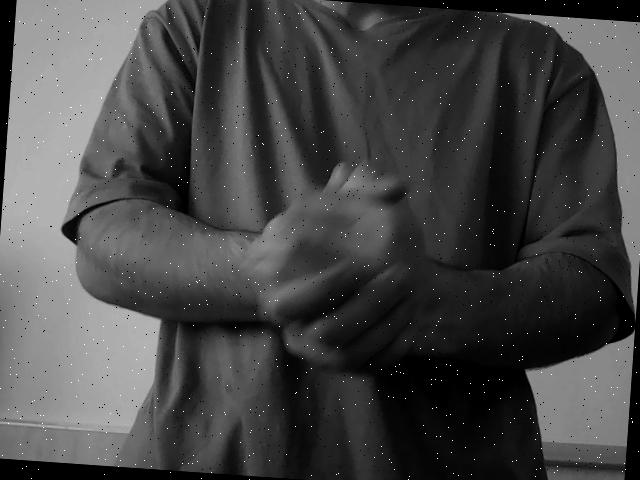friend: (221, 172, 458, 357)
